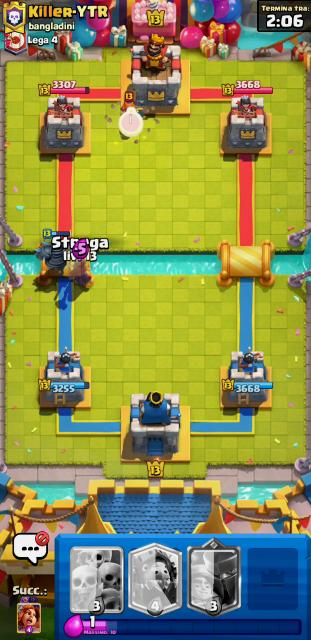ally_tank: (35, 230, 71, 274)
enemy_melee: (121, 100, 146, 119)
